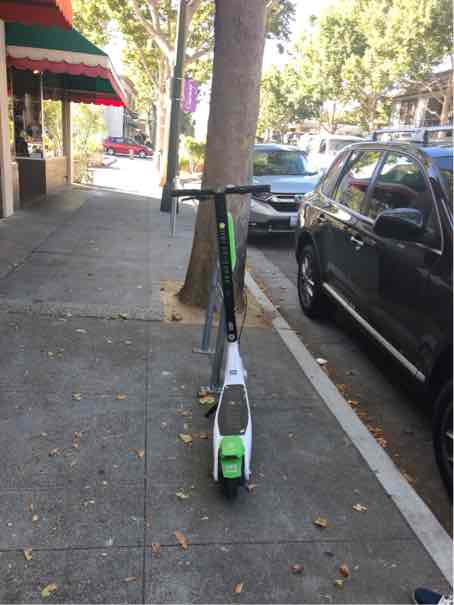scooter: (156, 177, 284, 495)
